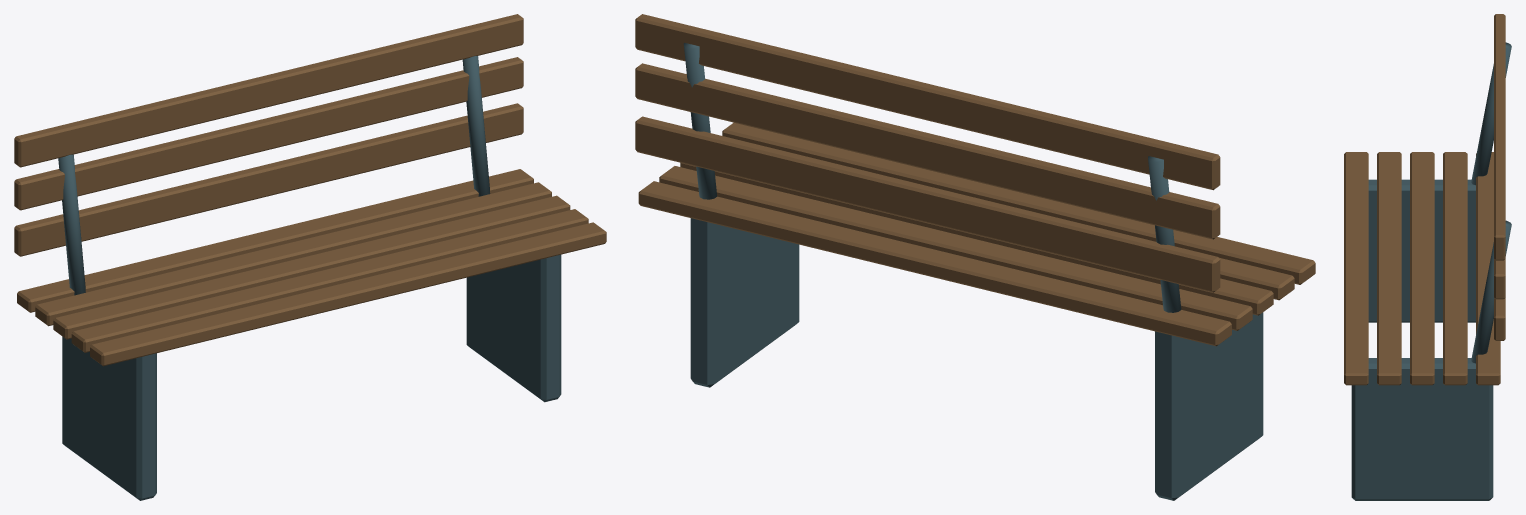
The model's file is bench_wood.glb.
3 views of the same model, side by side, from view 1: azimuth 30°, elevation 25°; view 2: azimuth 150°, elevation 25°; view 3: azimuth 270°, elevation 25° (orthographic). The views are drawn at different scales.
Parts seen in each view (by area): view 1: bench_wood__VVK_weathered_wood, bench_wood__VVK_painted_steel; view 2: bench_wood__VVK_weathered_wood, bench_wood__VVK_painted_steel; view 3: bench_wood__VVK_weathered_wood, bench_wood__VVK_painted_steel.
Part boxes in pixels (box(x1,y1,x2,y2)): bench_wood__VVK_weathered_wood: box(14, 14, 606, 366); bench_wood__VVK_painted_steel: box(58, 56, 561, 500); bench_wood__VVK_weathered_wood: box(635, 14, 1315, 346); bench_wood__VVK_painted_steel: box(683, 42, 1263, 500); bench_wood__VVK_weathered_wood: box(1344, 14, 1505, 385); bench_wood__VVK_painted_steel: box(1351, 42, 1511, 500).
Size of the model in its own units: 1.6 by 0.9525 by 0.5092.
